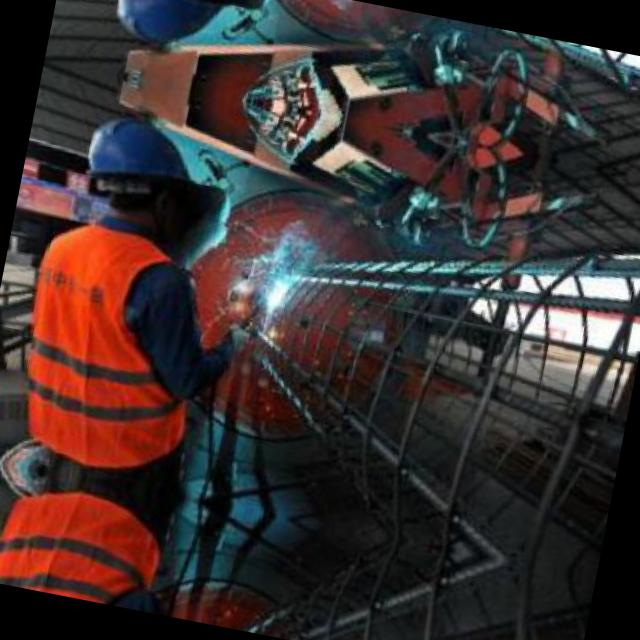helmet: (55, 98, 218, 258), (90, 0, 246, 69)
